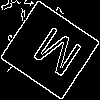M: (25, 25, 85, 87)
